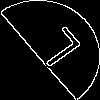L: (25, 25, 83, 76)
